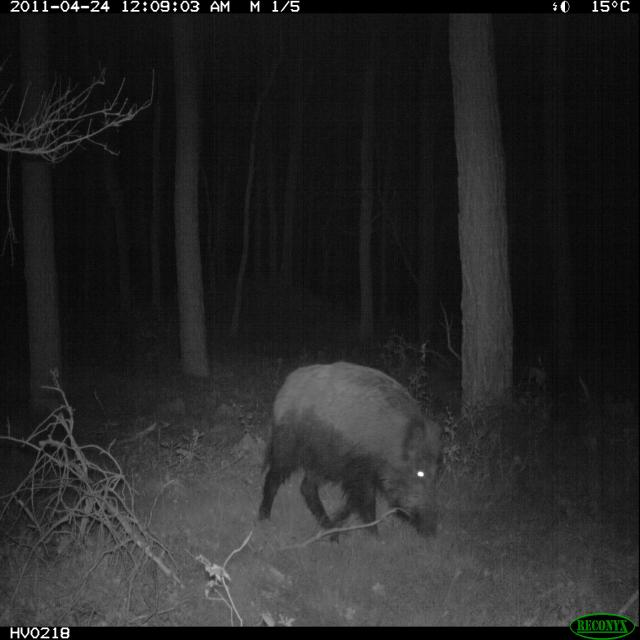boar: (245, 348, 458, 554)
